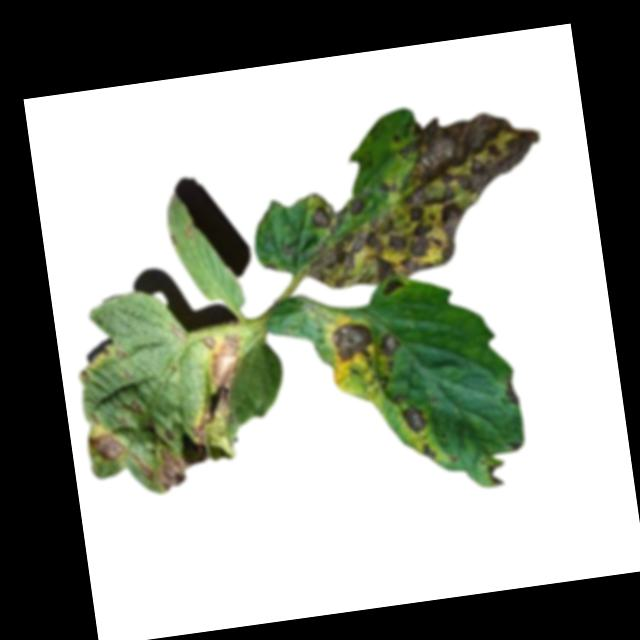Early_blight: (285, 103, 557, 293), (200, 330, 253, 415), (129, 444, 190, 495), (326, 320, 373, 363), (88, 430, 126, 465), (399, 404, 428, 437), (502, 375, 521, 410), (377, 331, 402, 357), (381, 278, 407, 298), (487, 464, 507, 486), (423, 443, 437, 461), (129, 400, 143, 416)
